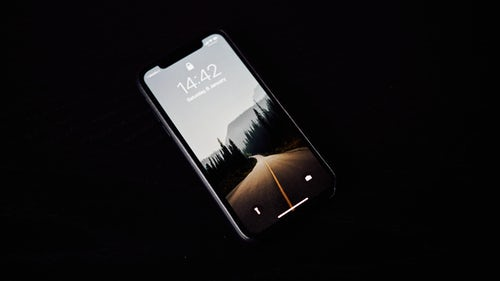phone: (128, 24, 343, 246)
